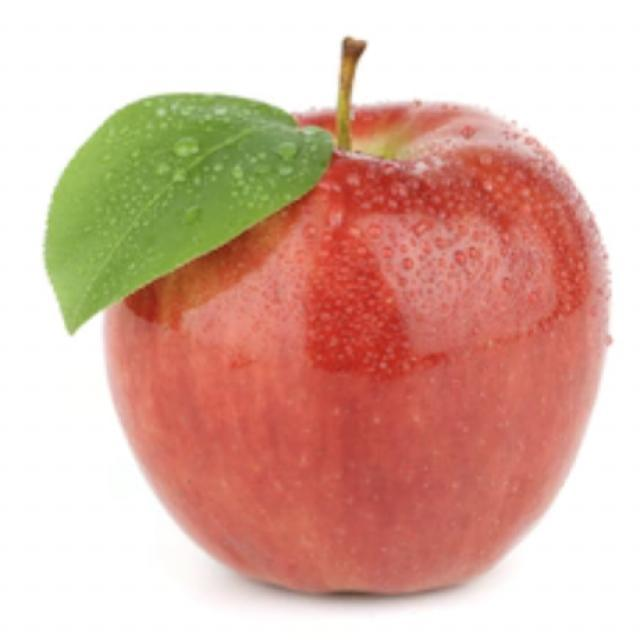Fresh Apple: (110, 92, 602, 603)
